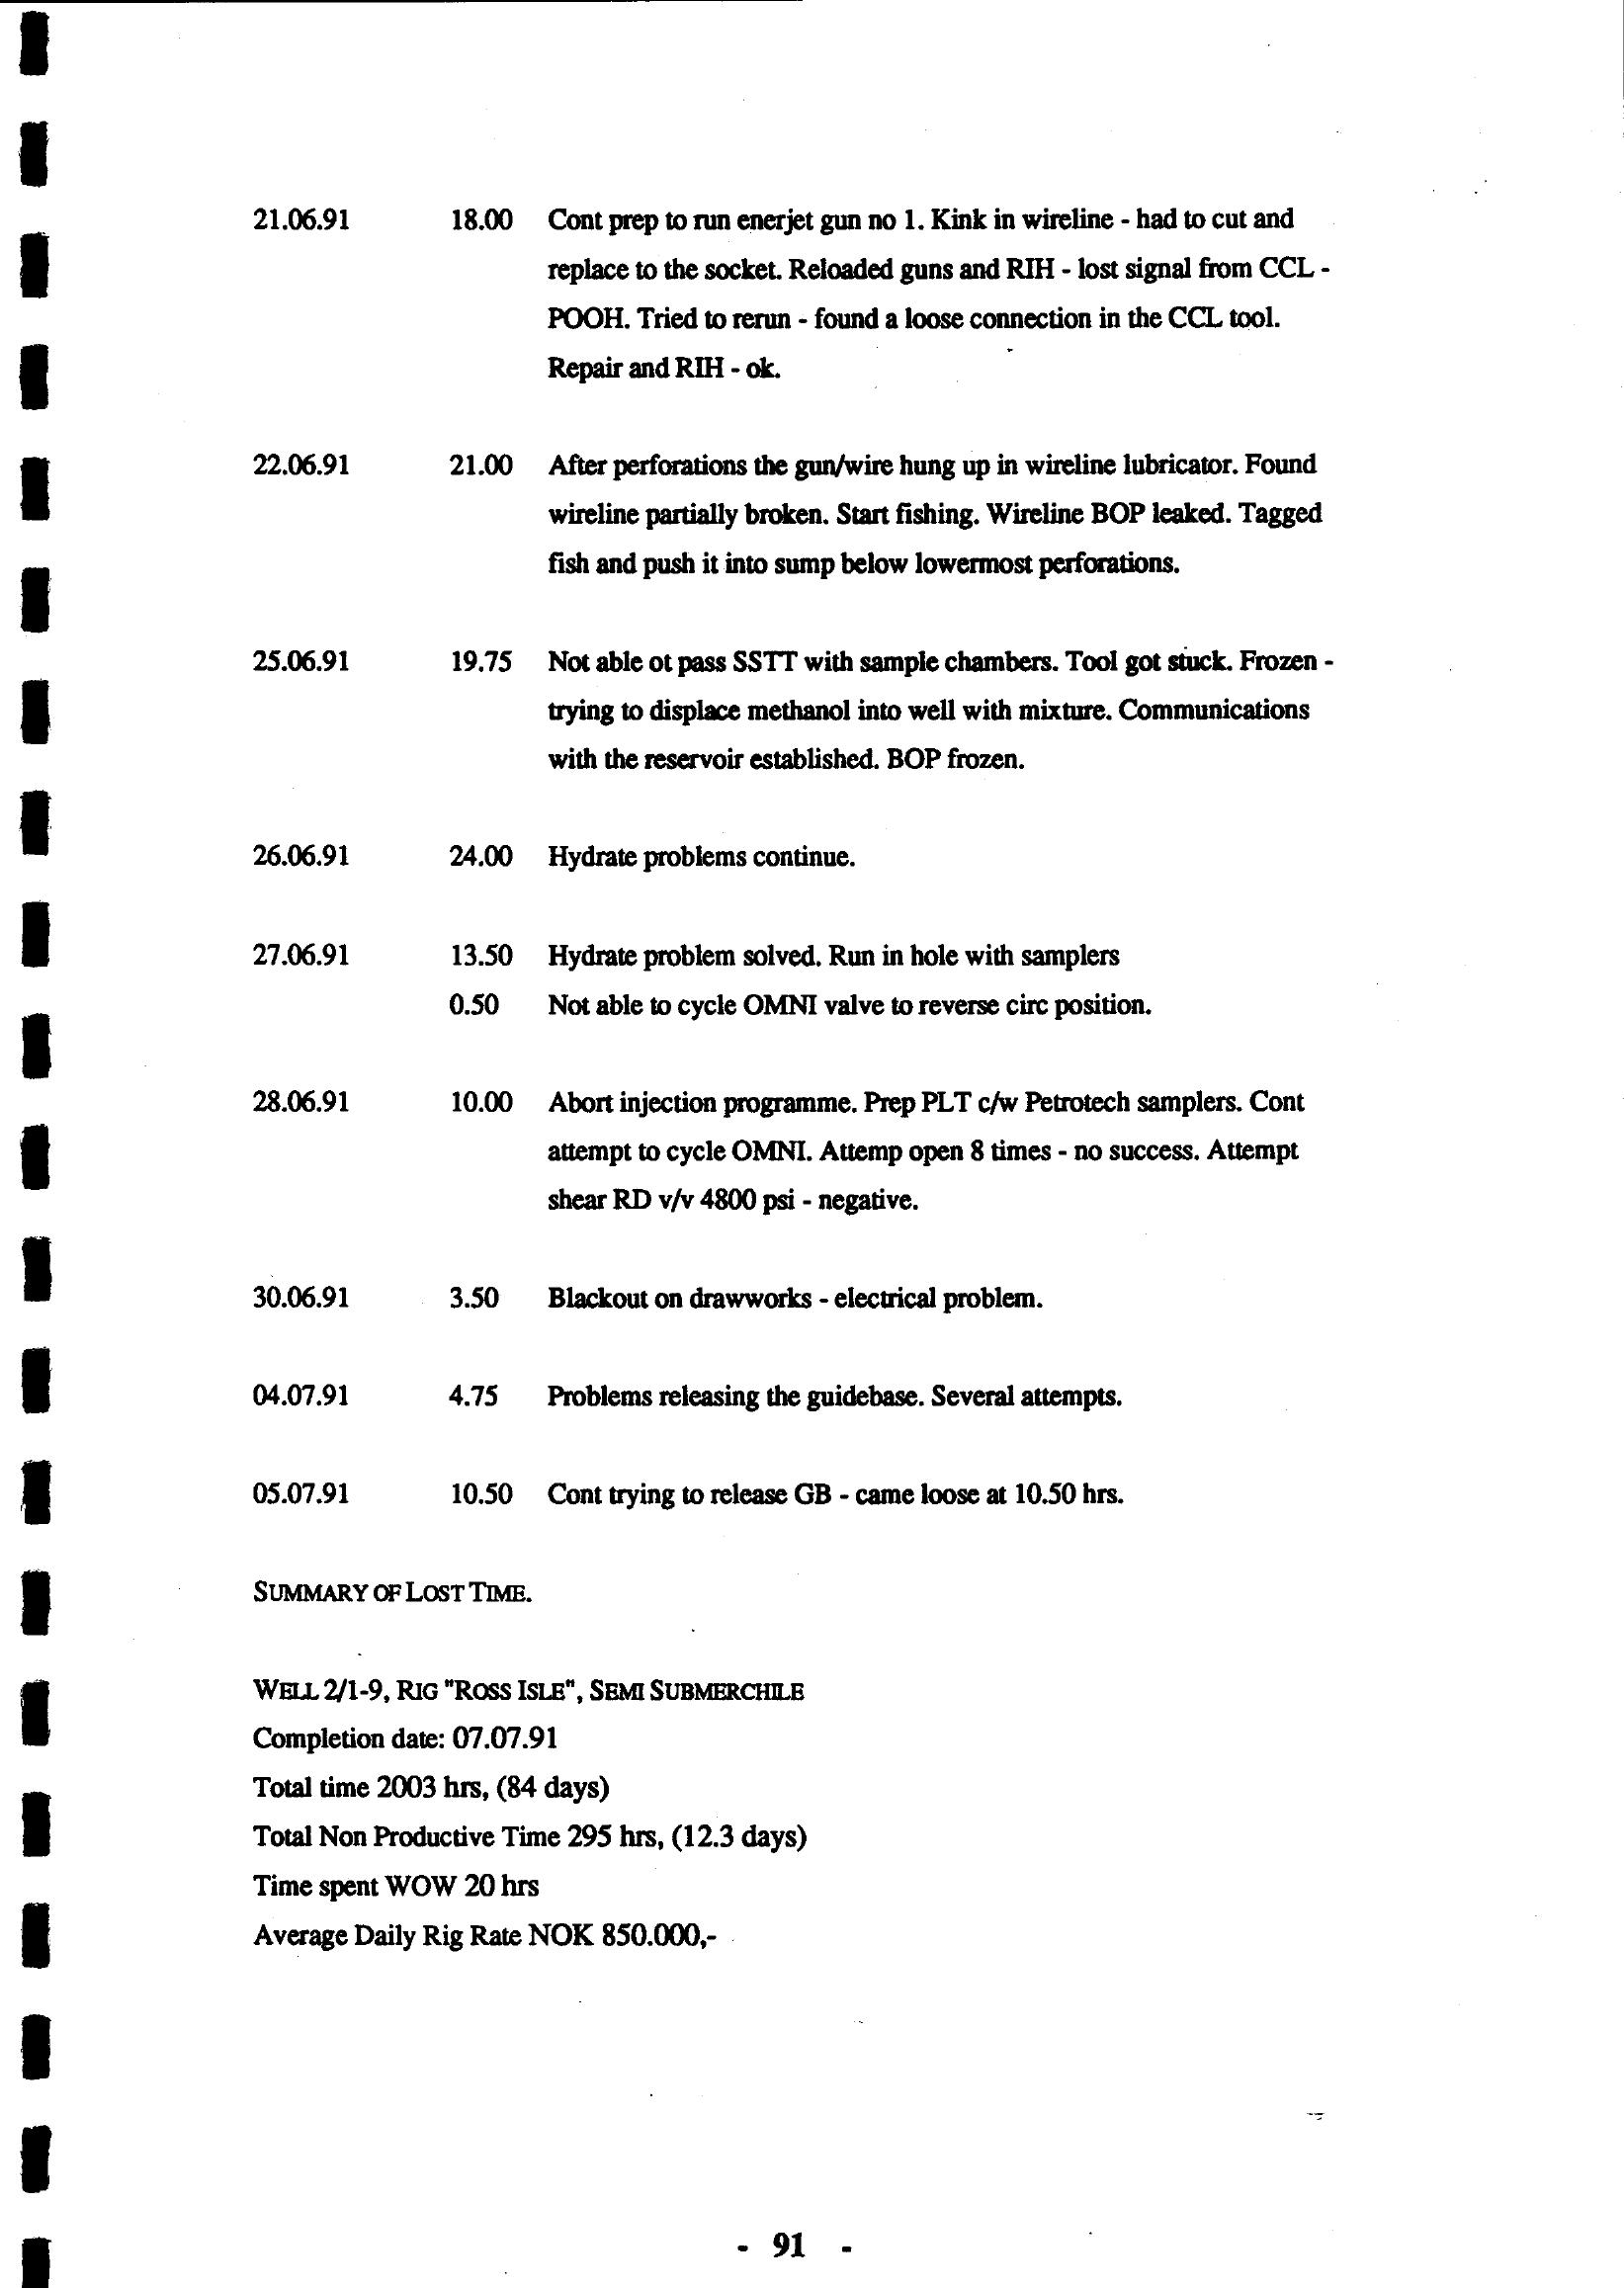text: (172, 149, 1380, 1984)
